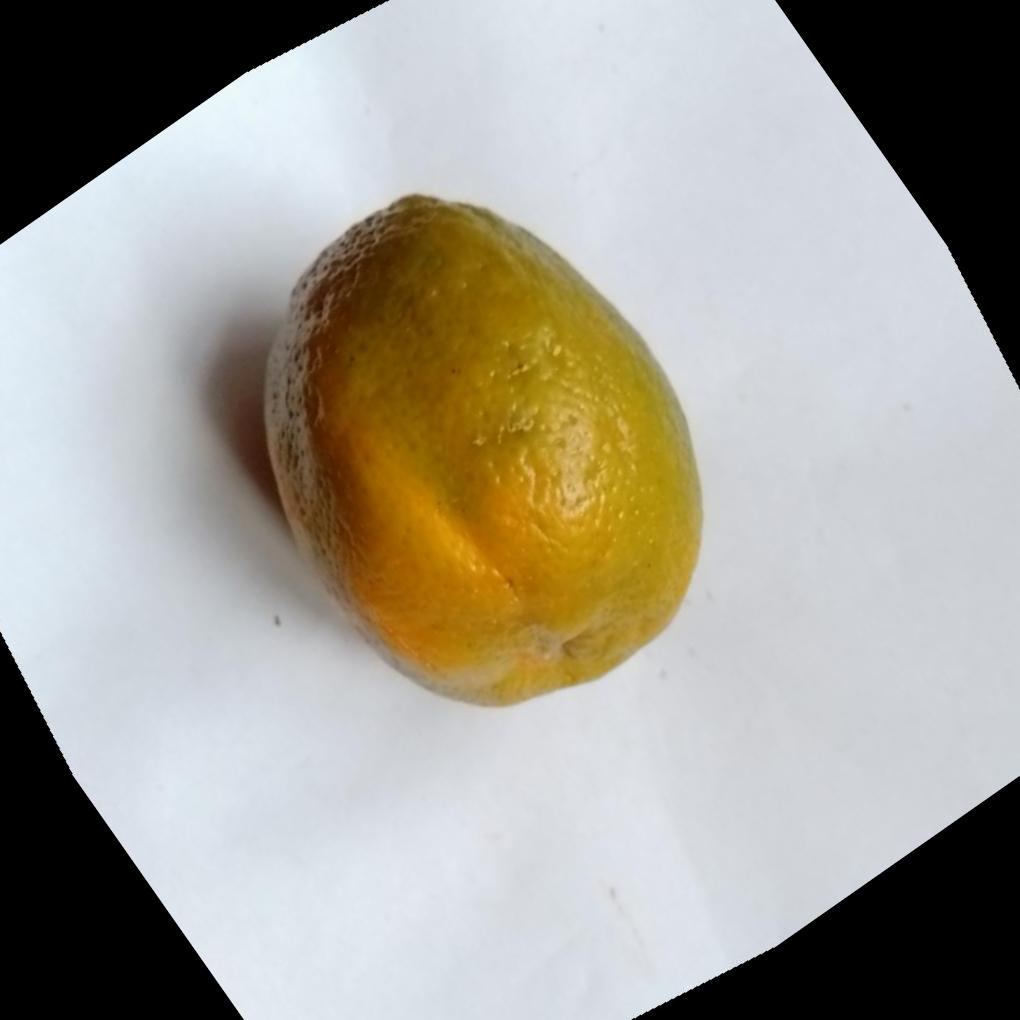FreshGuava: (262, 194, 707, 712)
